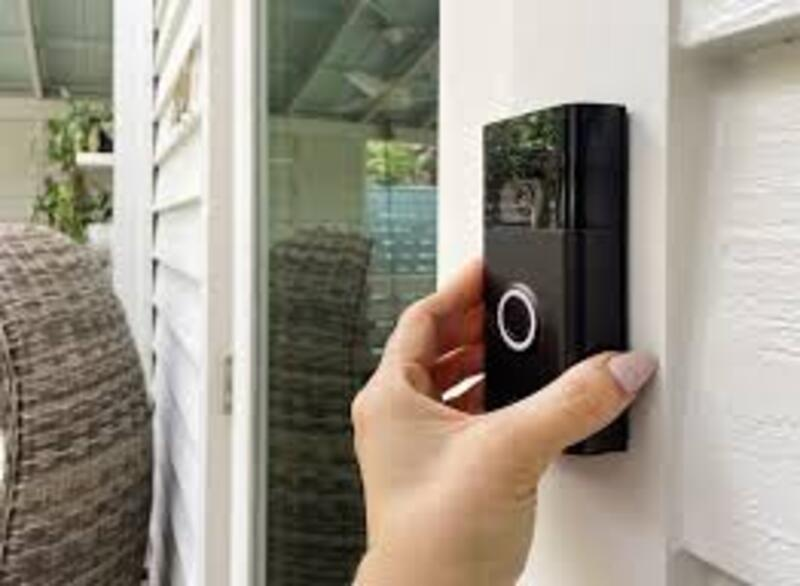doorbell: (475, 110, 636, 462)
